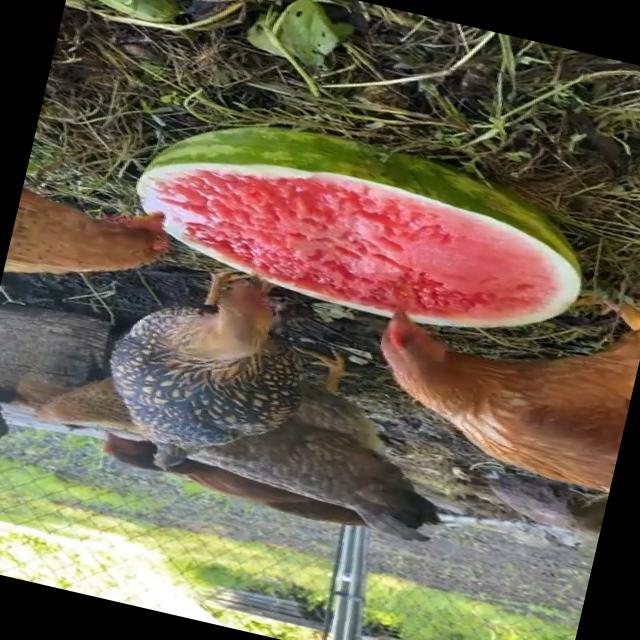feeding: (41, 240, 360, 503), (329, 242, 640, 501), (2, 192, 160, 304)
